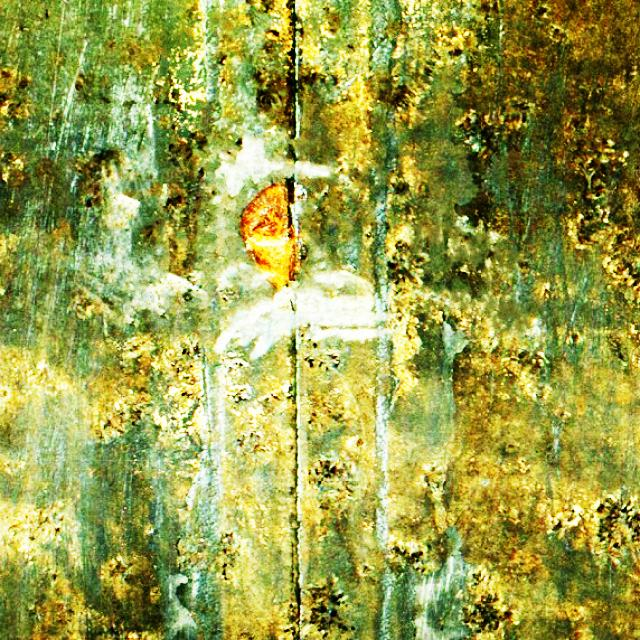Corrosion: (239, 178, 307, 290)
